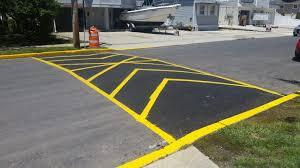Bump: (34, 57, 246, 124)
